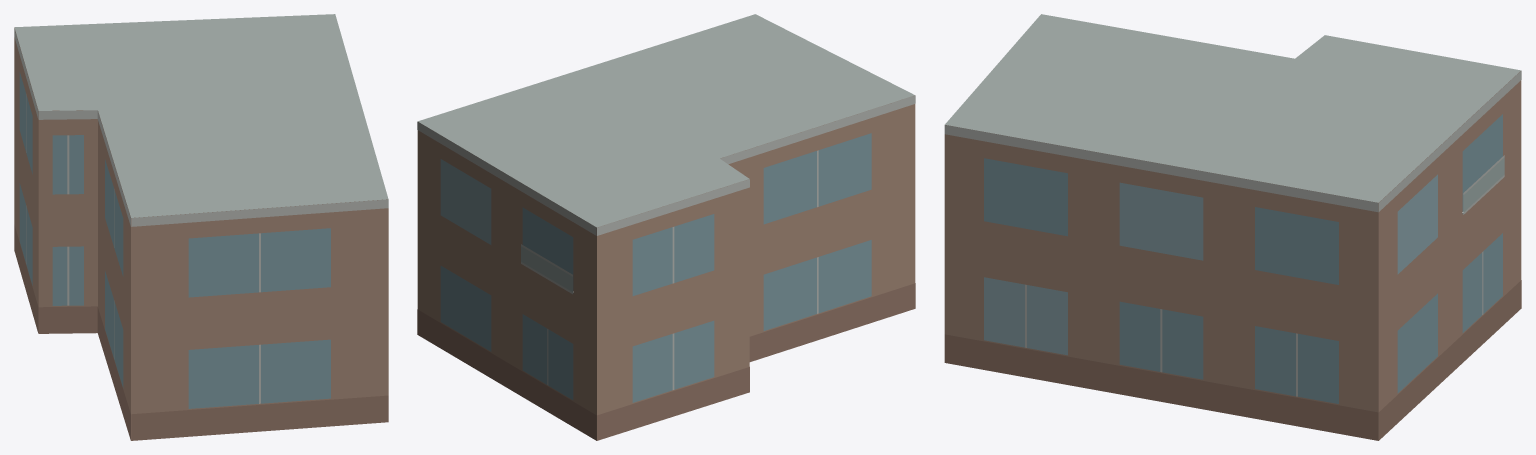
File: survey-upis-32897967.glb
3 views of the same model, side by side, from view 1: azimuth 30°, elevation 25°; view 2: azimuth 150°, elevation 25°; view 3: azimuth 270°, elevation 25° (orthographic). The views are drawn at different scales.
Parts seen in each view (by area): view 1: survey-upis-32897967.tmp; view 2: survey-upis-32897967.tmp; view 3: survey-upis-32897967.tmp.
Boxes of the visible parts, x1,y1,x2,y2 form: survey-upis-32897967.tmp: (14, 14, 388, 440); survey-upis-32897967.tmp: (417, 14, 915, 440); survey-upis-32897967.tmp: (944, 14, 1521, 440).
Size of the model in its own units: 10.38 by 6.1 by 13.4.
